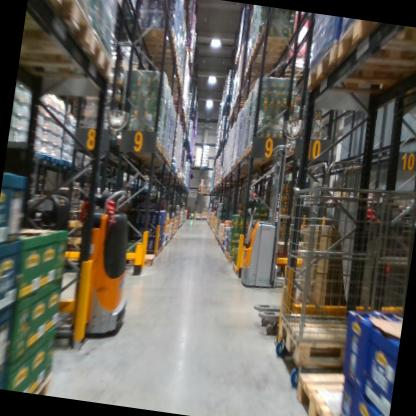pallet: (272, 309, 382, 380), (17, 21, 119, 91), (303, 36, 416, 96), (290, 360, 375, 416), (22, 0, 101, 58), (330, 17, 416, 70), (248, 28, 291, 56), (124, 24, 176, 47), (275, 57, 305, 86), (244, 142, 279, 162), (40, 149, 56, 165), (142, 250, 156, 264), (226, 254, 241, 267), (231, 260, 242, 277)
pallet_truck: (0, 163, 152, 338), (229, 138, 324, 300)
